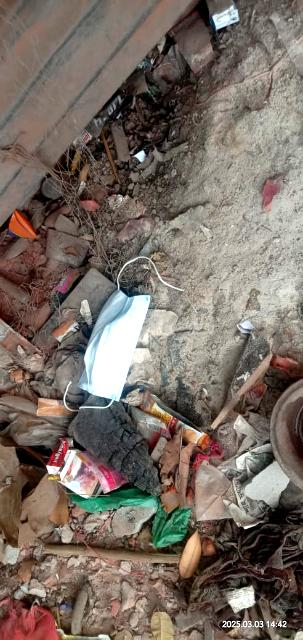mask: (64, 272, 162, 419)
